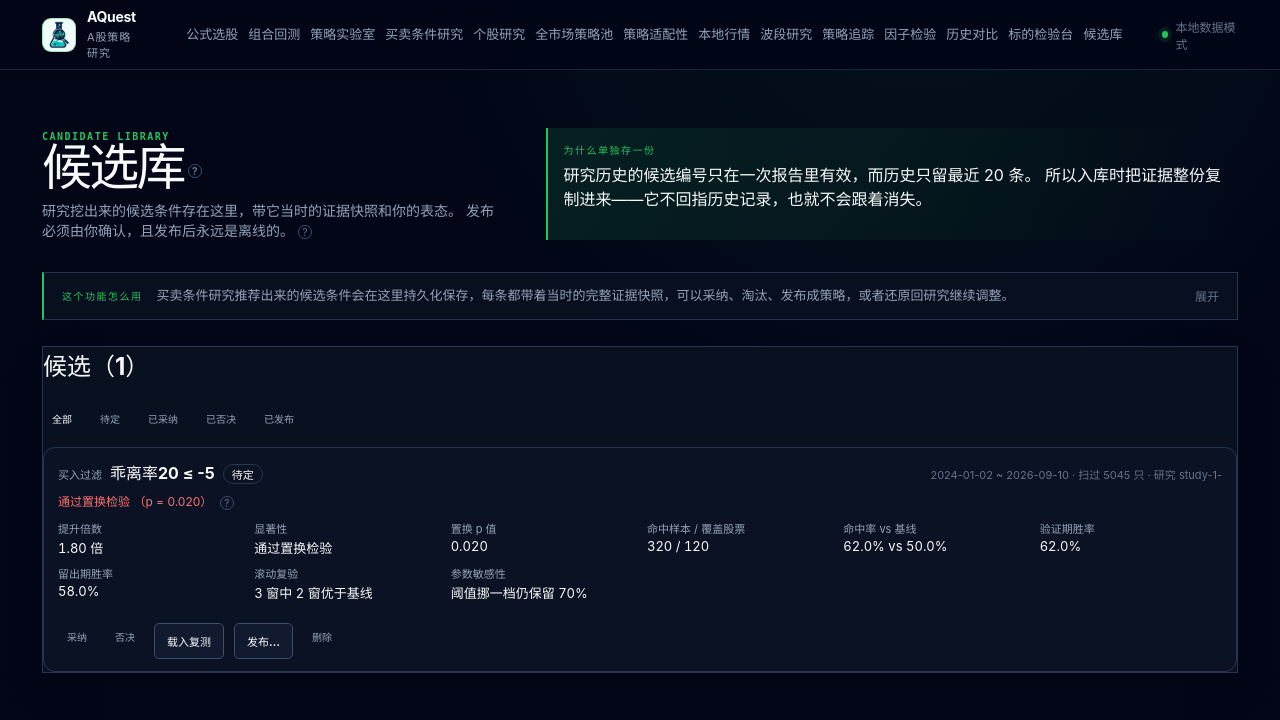
Test: CandidateLibraryPage › says so instead of doing nothing when the source study was evicted
Click the button with test id "candidate-restore-c1" at (189, 641), box [154,623,224,659]
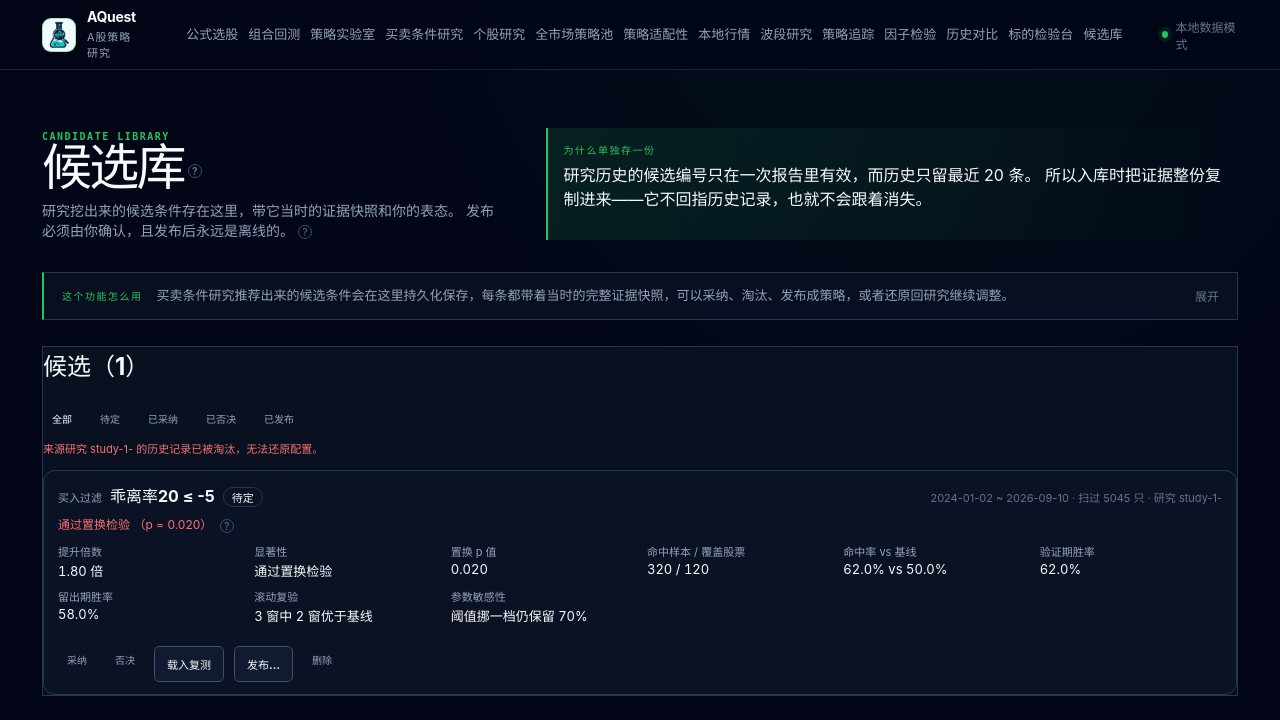
Check: the text with test id "candidate-message" shows "已被淘汰", box [43,442,323,456]
Check: the text with test id "candidate-message" shows "无法还原配置", box [43,442,323,456]
